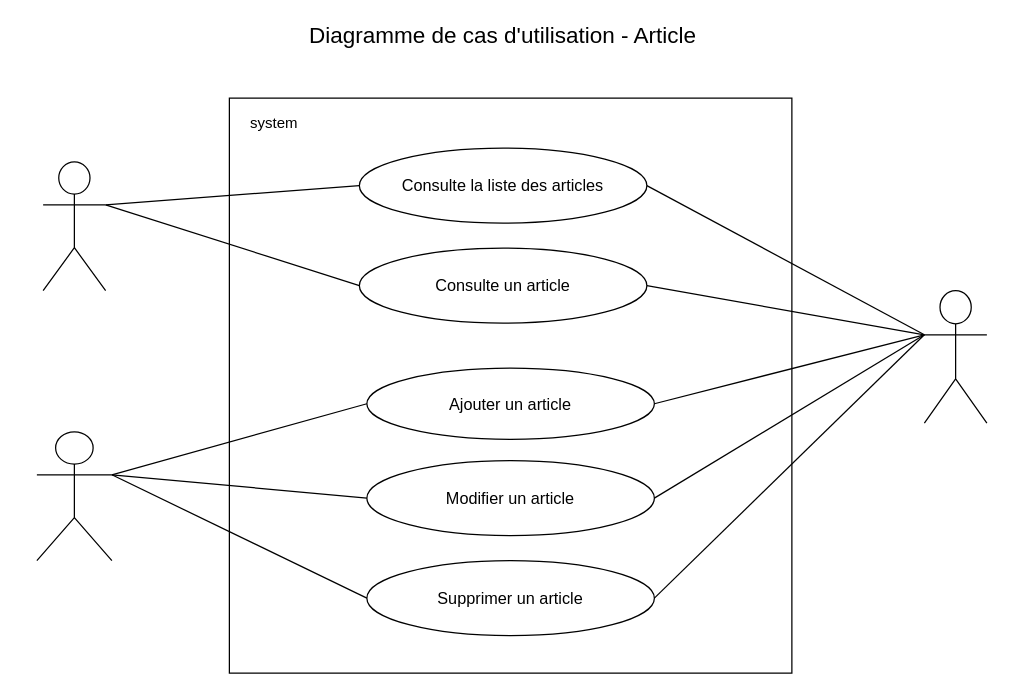
Some shapes in this 1026 by 695 pixel diagram are drawn without their labels. The shapes that lost their labels are listed below. From the top down, each one's box as (x1, y1, x2, y2) in pixels, then its label:
(42, 161, 106, 291): Utilisateur
(923, 289, 987, 423): <<systeme>> BDD
(36, 431, 112, 561): Administrateur
